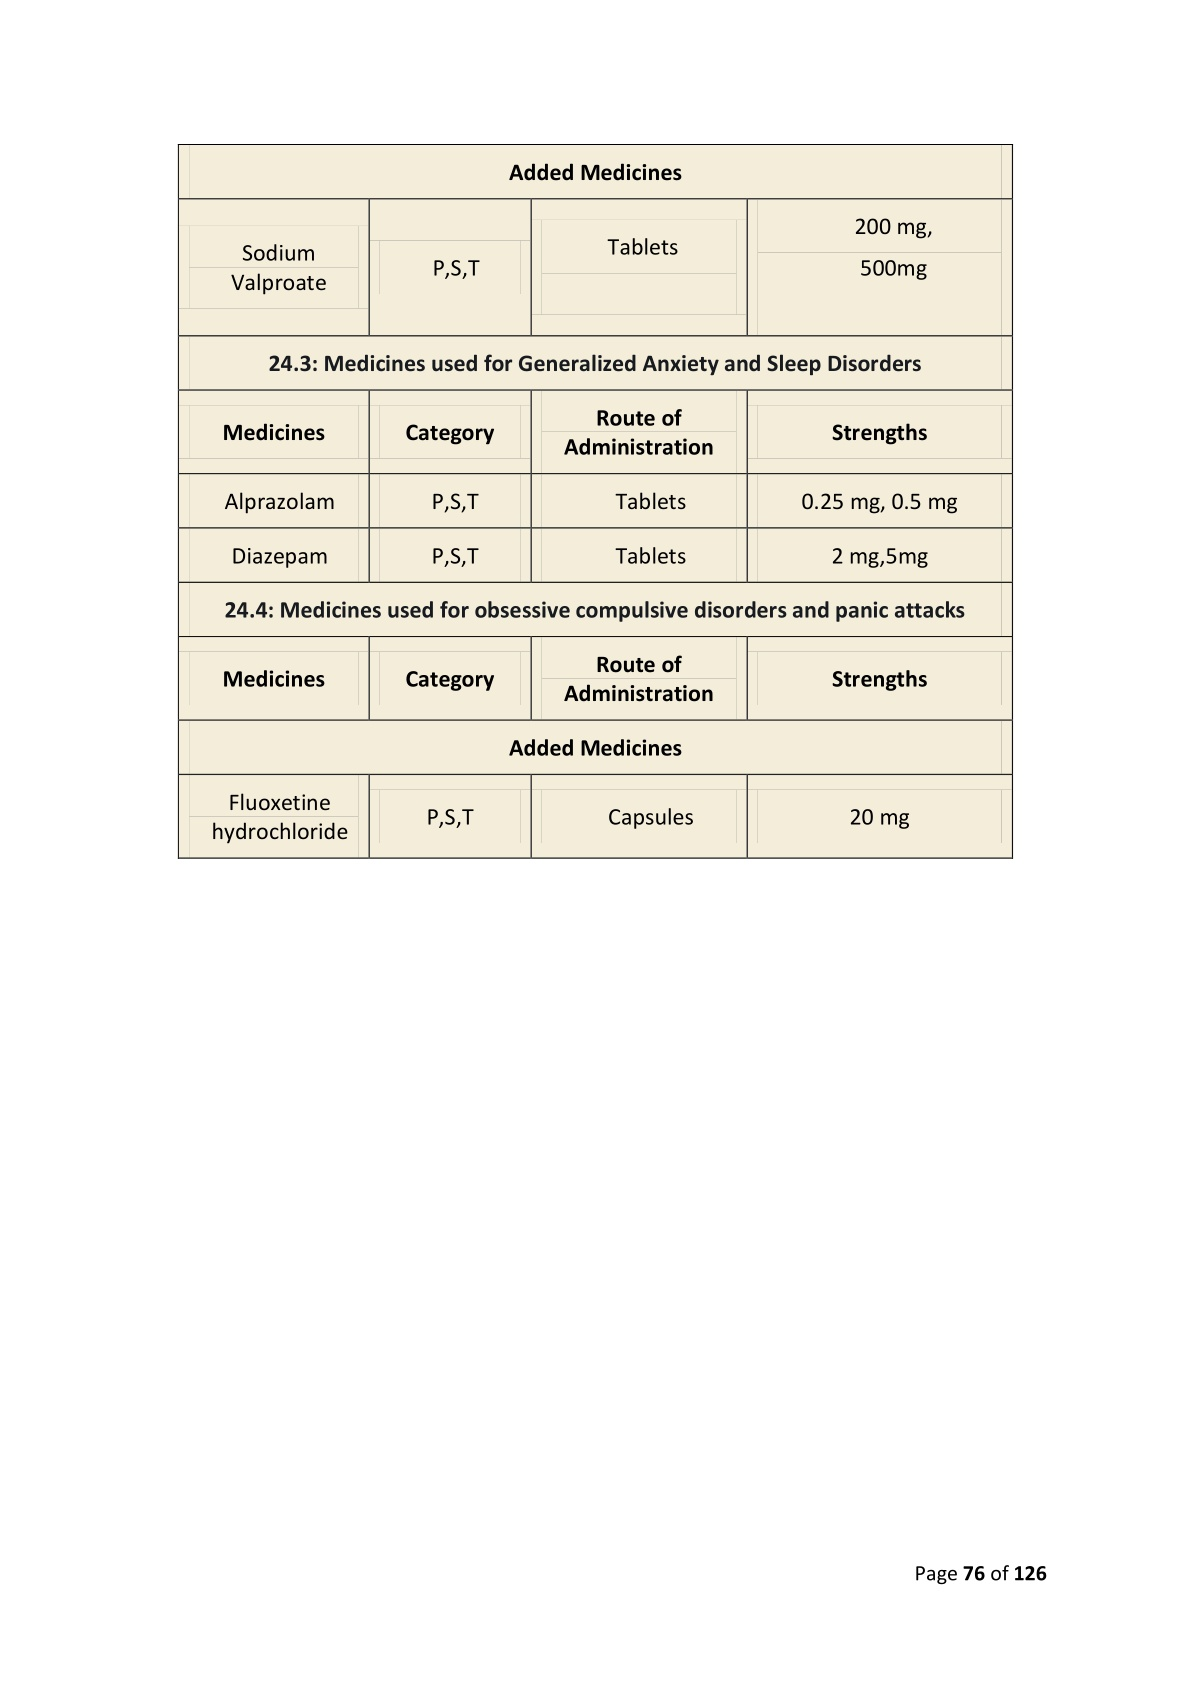merged_cells: (177, 142, 1013, 859)
